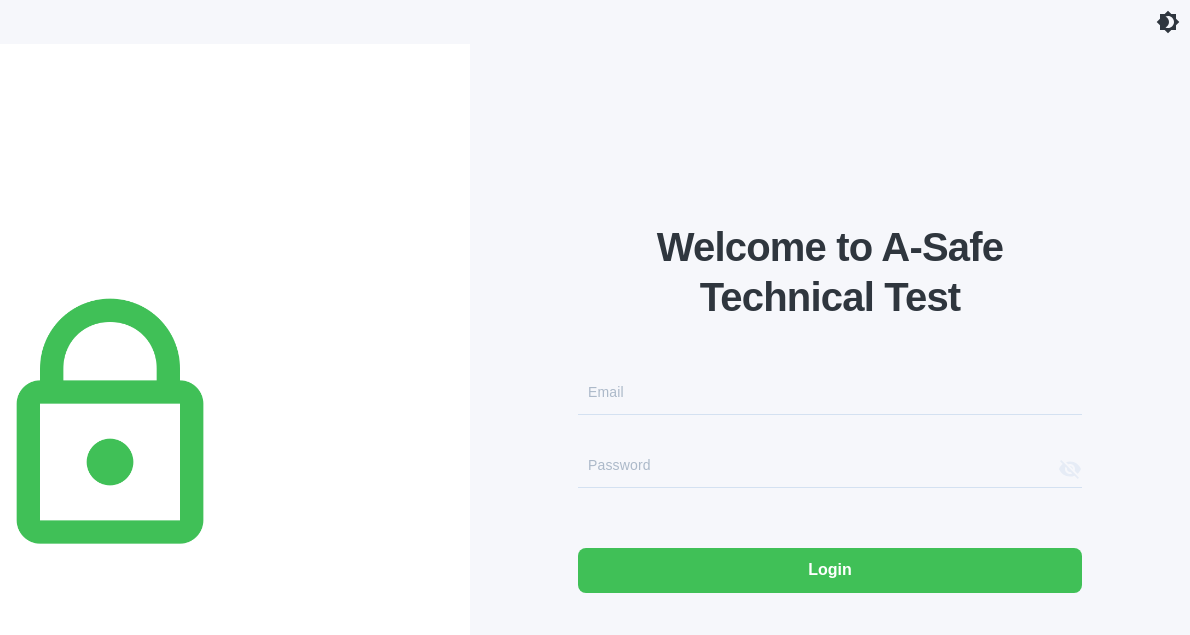
it: SignIn Page › Displays error message on failed login
In the field labelled "Email": (830, 397) [578, 378, 1082, 415], type "test@example.com"
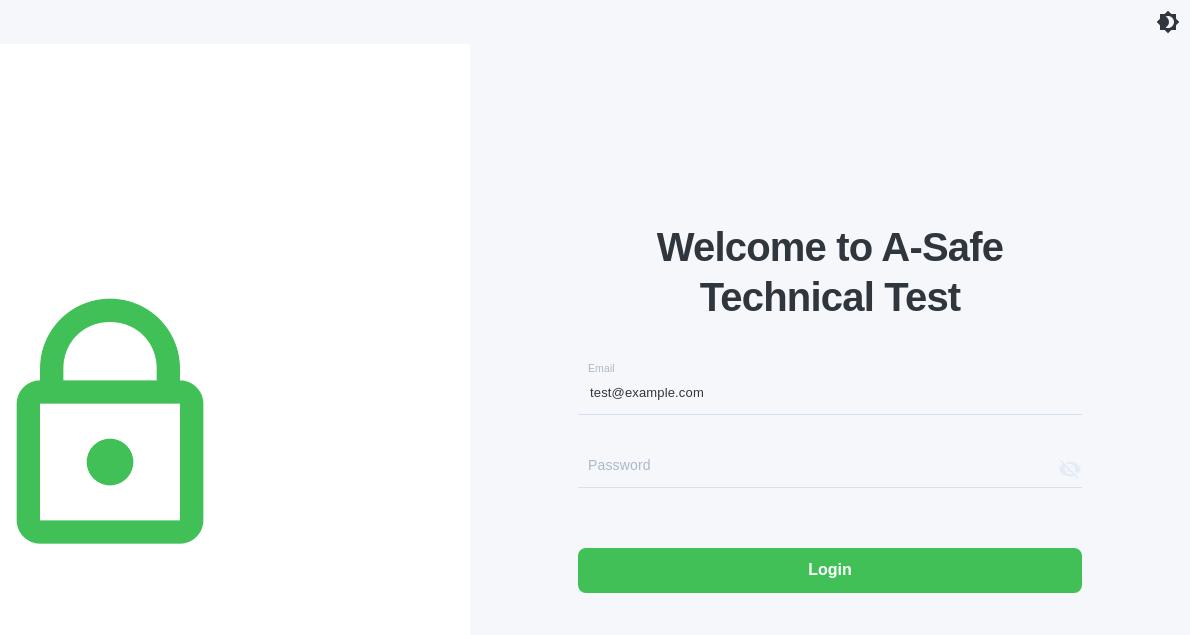
In the password field labelled "Password": (814, 469) [578, 451, 1050, 488], type "wrongpassword"
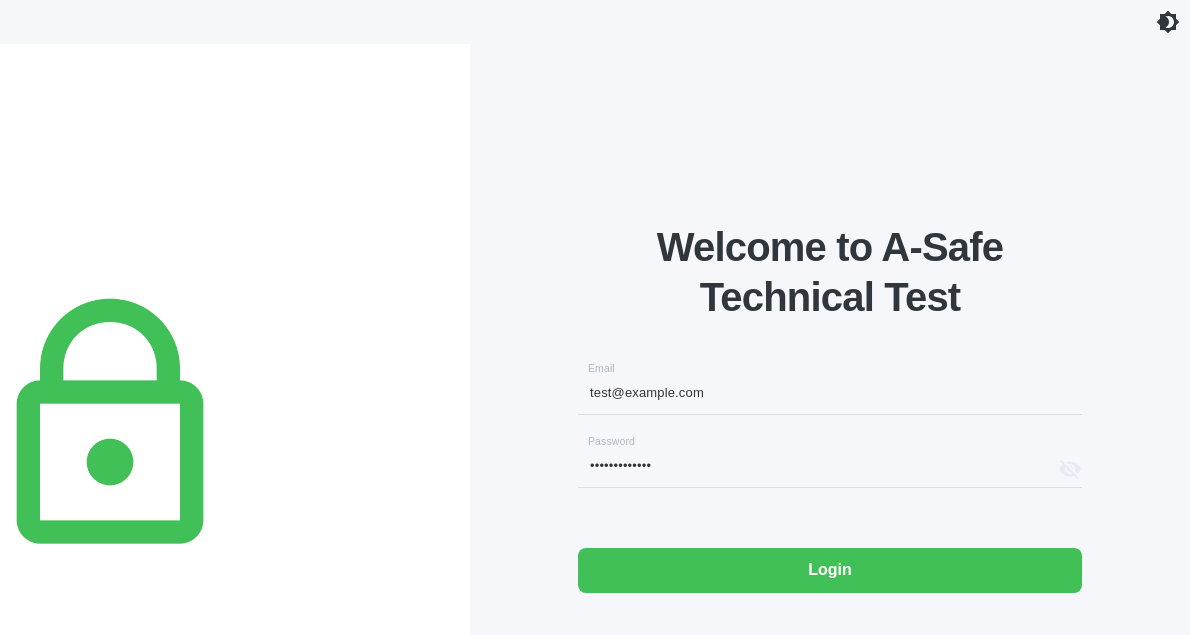
Click the button "Login": click(830, 570) [578, 548, 1082, 593]
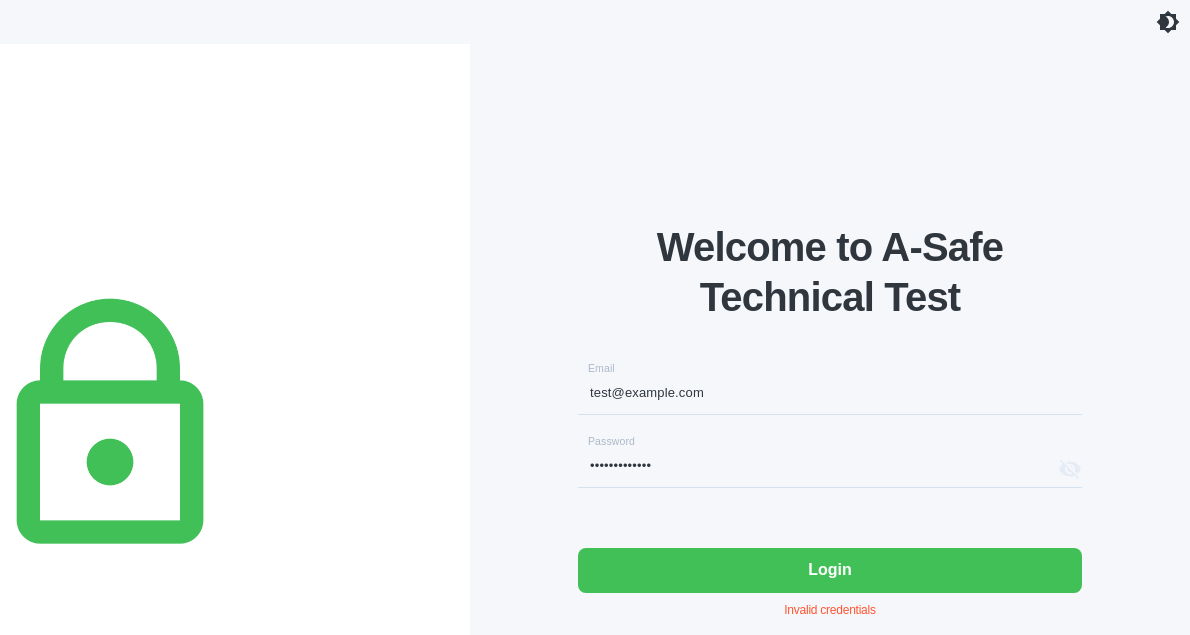
expect the text "Invalid credentials" is shown: met, box [784, 601, 876, 619]
